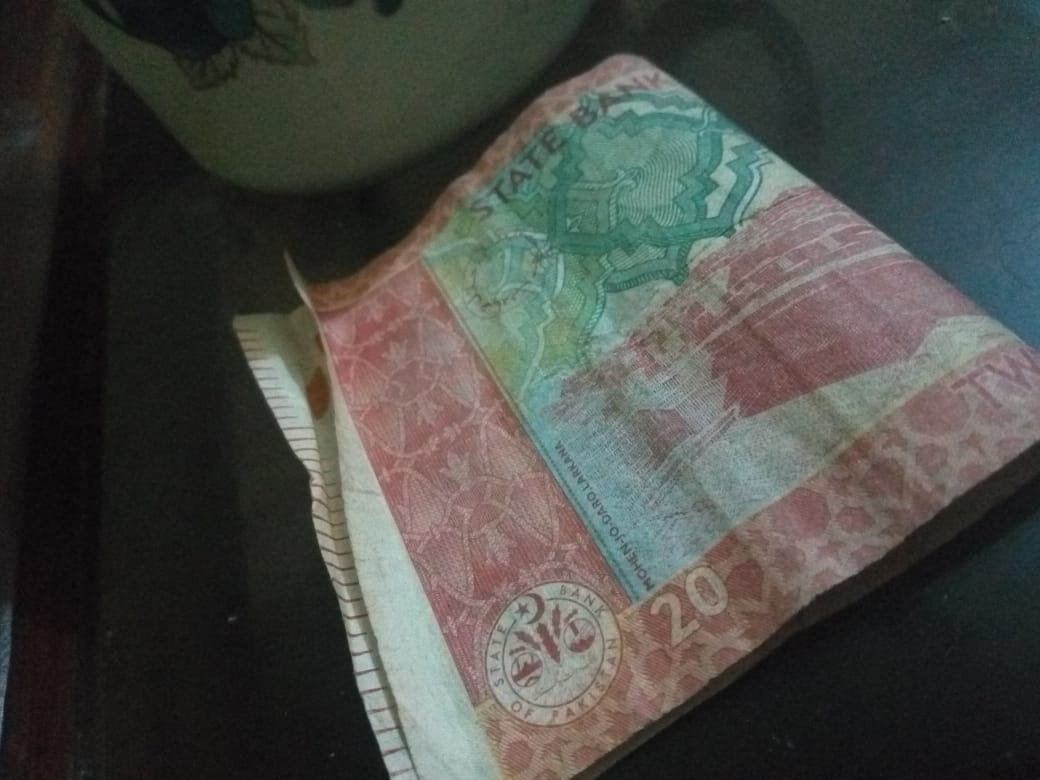20 rupee: (205, 53, 1033, 773)
